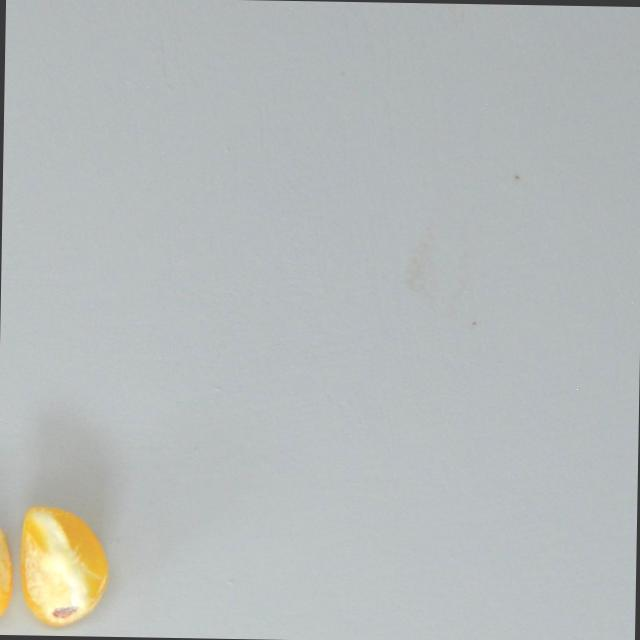dañado: (18, 502, 109, 628)
punto_negro: (0, 521, 13, 622)
